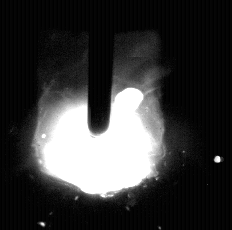arame: (88, 0, 112, 136)
poca: (31, 0, 164, 230)
